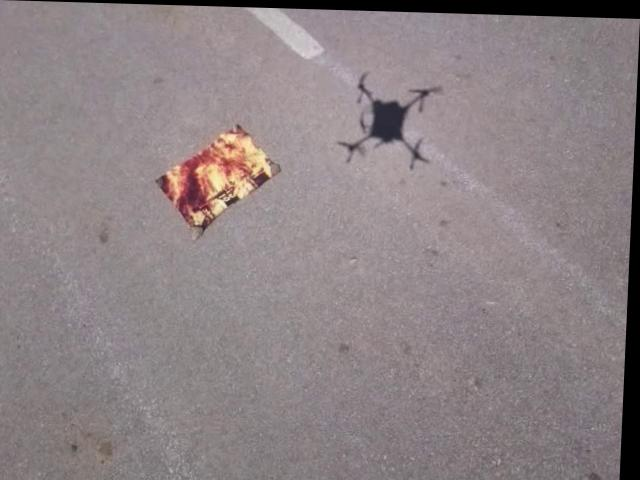fire-poster: (154, 118, 286, 240)
